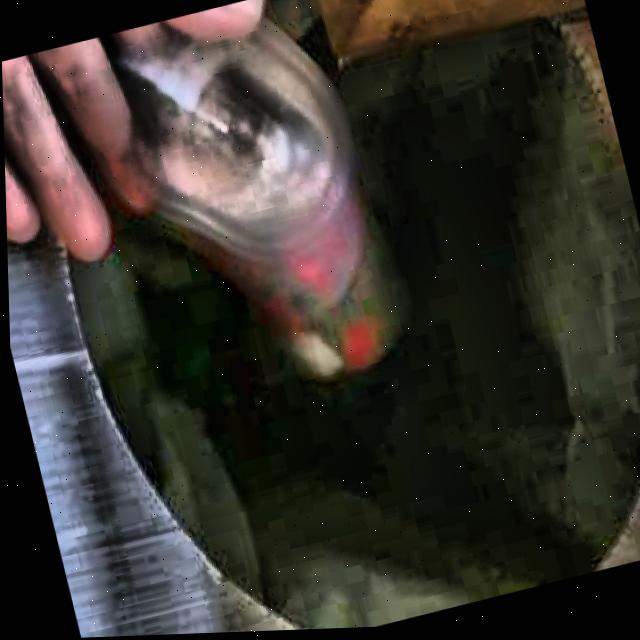metal: (113, 22, 400, 381)
